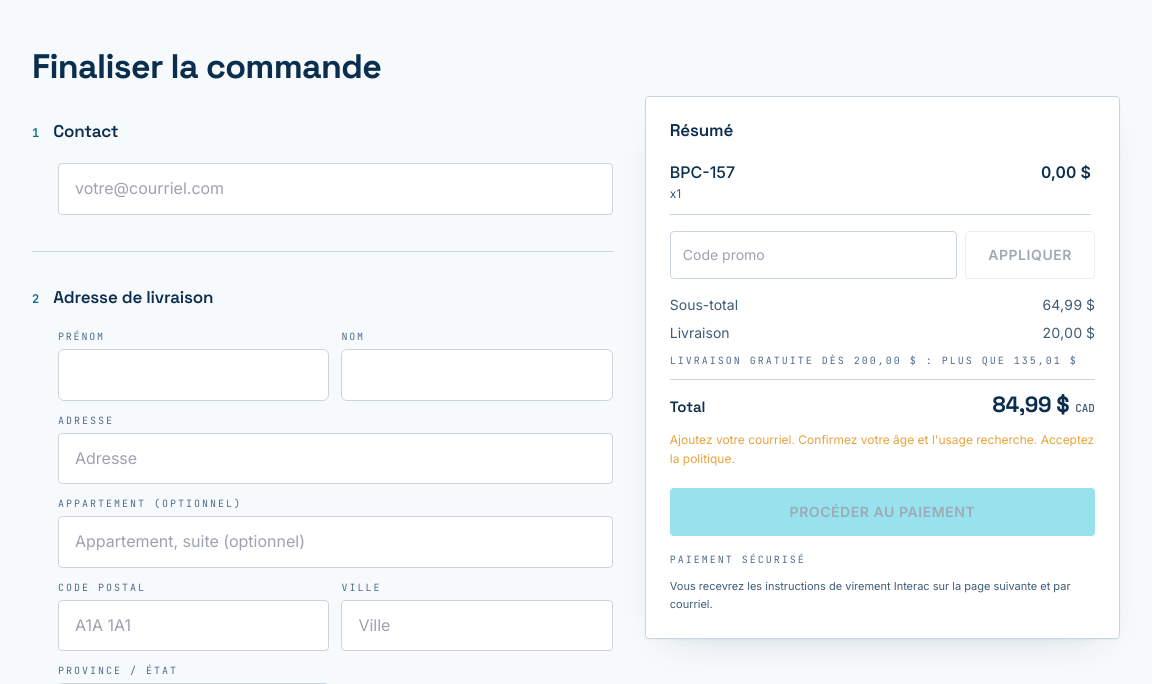
signale un code postal mal formé pendant la frappe
Step 1. Type "H2X1" into the field with test id "shipping-postal" → coordinates (194, 626), box [58,600,329,651]
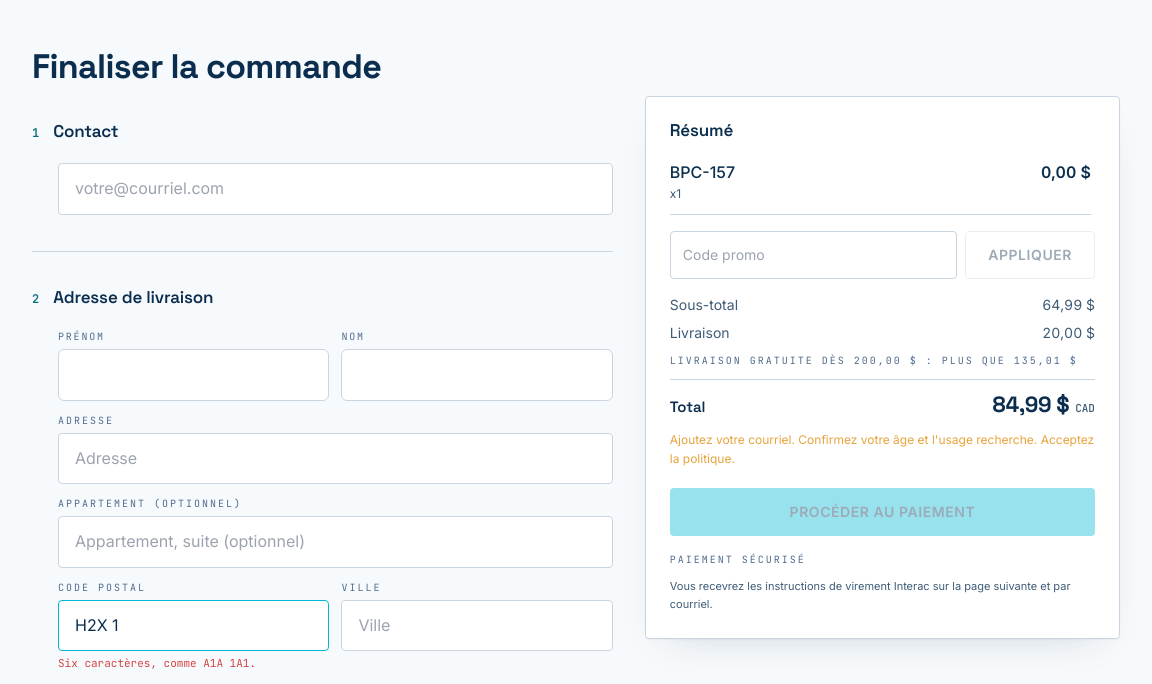
Now the text "Six caractères, comme A1A 1A1." is shown, box [58,656,256,670]
